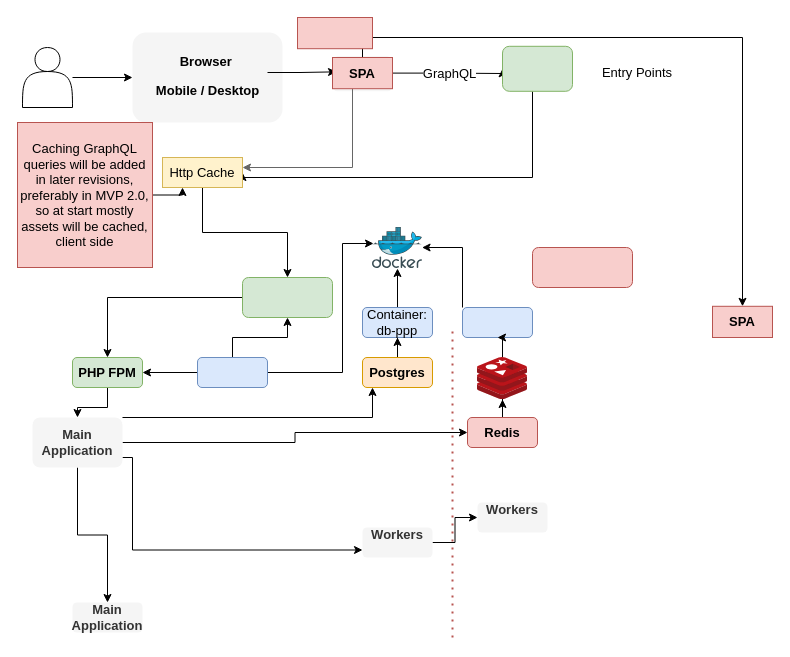
This 790x657 diagram has some shape labels left out. Here are the shapes that lost their labels. From the top down, the centre of each, then its label:
[334,32]: Vue (Vite) or React
[537,68]: API
[582,267]: To be implemented
[287,297]: Caddy server
[497,322]: Container: cache-ppp
[232,372]: Container: app-ppp
